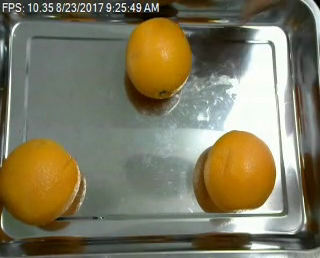Orange: (1, 137, 82, 224), (204, 130, 277, 211), (126, 18, 192, 98)
